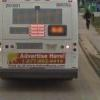Bus: (1, 1, 82, 86)
